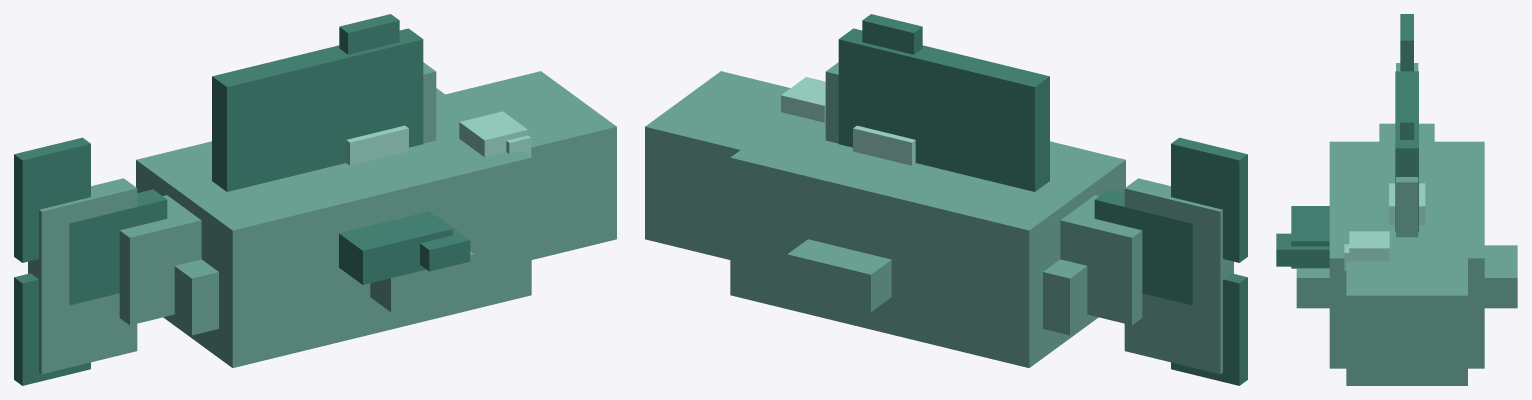
The model's file is fish_tidepool_blenny.glb.
The picture shows the model from 3 angles, left to right: view 1: azimuth 30°, elevation 25°; view 2: azimuth 150°, elevation 25°; view 3: azimuth 270°, elevation 25°; orthographic projection. The views are drawn at different scales.
Visible parts, largest first — view 1: FishArt_body, FishArt_dorsal, FishArt_tail, FishArt_pectoral, FishArt_eye, FishArt_specialty; view 2: FishArt_body, FishArt_dorsal, FishArt_tail, FishArt_specialty, FishArt_eye; view 3: FishArt_body, FishArt_pectoral, FishArt_dorsal, FishArt_eye, FishArt_tail, FishArt_specialty.
Boxes of the visible parts, box(x1,y1,x2,y2) form: FishArt_body: box(28, 62, 616, 374); FishArt_dorsal: box(212, 14, 423, 191); FishArt_tail: box(14, 137, 167, 385); FishArt_pectoral: box(339, 211, 470, 284); FishArt_eye: box(459, 111, 531, 156); FishArt_specialty: box(346, 125, 408, 165); FishArt_body: box(645, 62, 1233, 374); FishArt_dorsal: box(838, 14, 1049, 191); FishArt_tail: box(1094, 137, 1247, 385); FishArt_specialty: box(853, 125, 915, 165); FishArt_eye: box(781, 77, 825, 122); FishArt_body: box(1296, 63, 1517, 385); FishArt_pectoral: box(1276, 206, 1329, 268); FishArt_dorsal: box(1395, 71, 1418, 231); FishArt_eye: box(1344, 231, 1389, 270); FishArt_tail: box(1400, 14, 1413, 71); FishArt_specialty: box(1389, 183, 1425, 224).
Bounding box in the file's own units: 0.3091 × 0.1442 × 0.1439.
